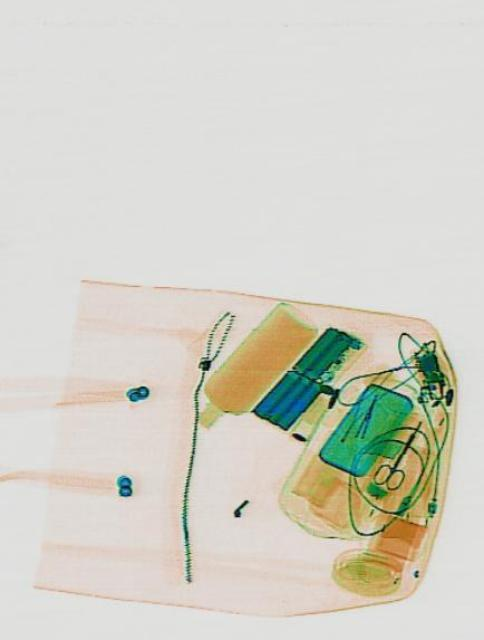Scissors: (368, 409, 428, 497)
